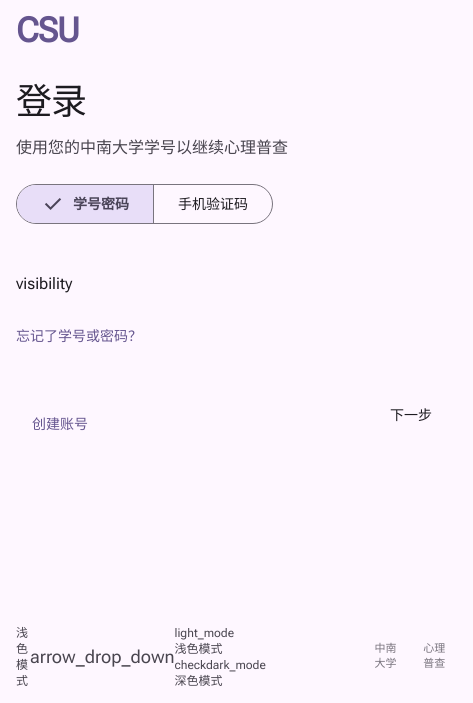
Test case: AuthPage › renders verification code button directly inside trailing-icon slot of text field with matching height
// Switch to SMS login
Click the radio button "手机验证码": (213, 204) [154,185,272,223]
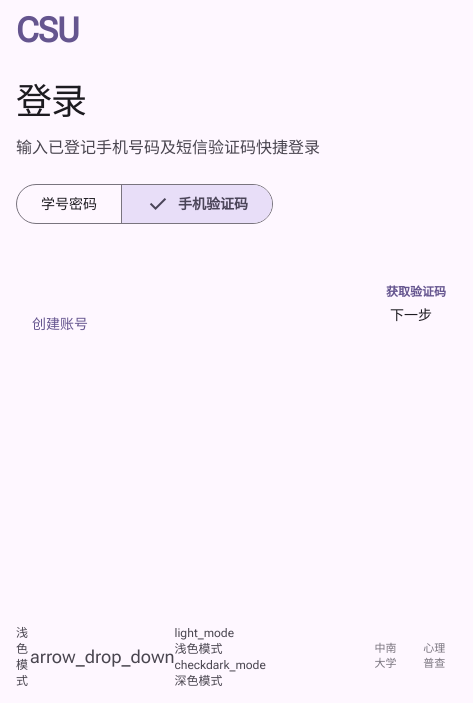
Check: the button "获取验证码" is shown, box [376,272,456,312]
